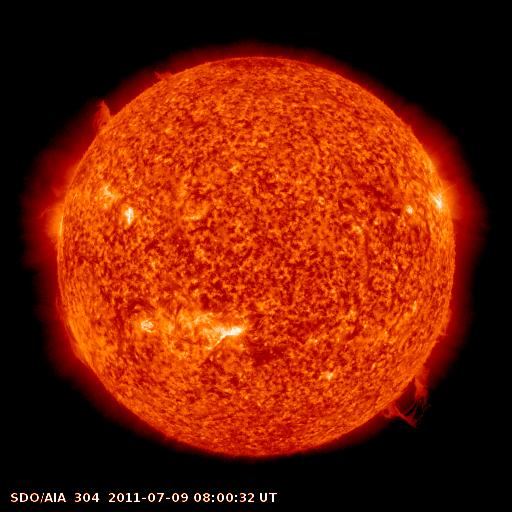prominence: (44, 293, 101, 381), (376, 362, 440, 435), (83, 89, 127, 139), (426, 287, 460, 343), (146, 59, 183, 89)
